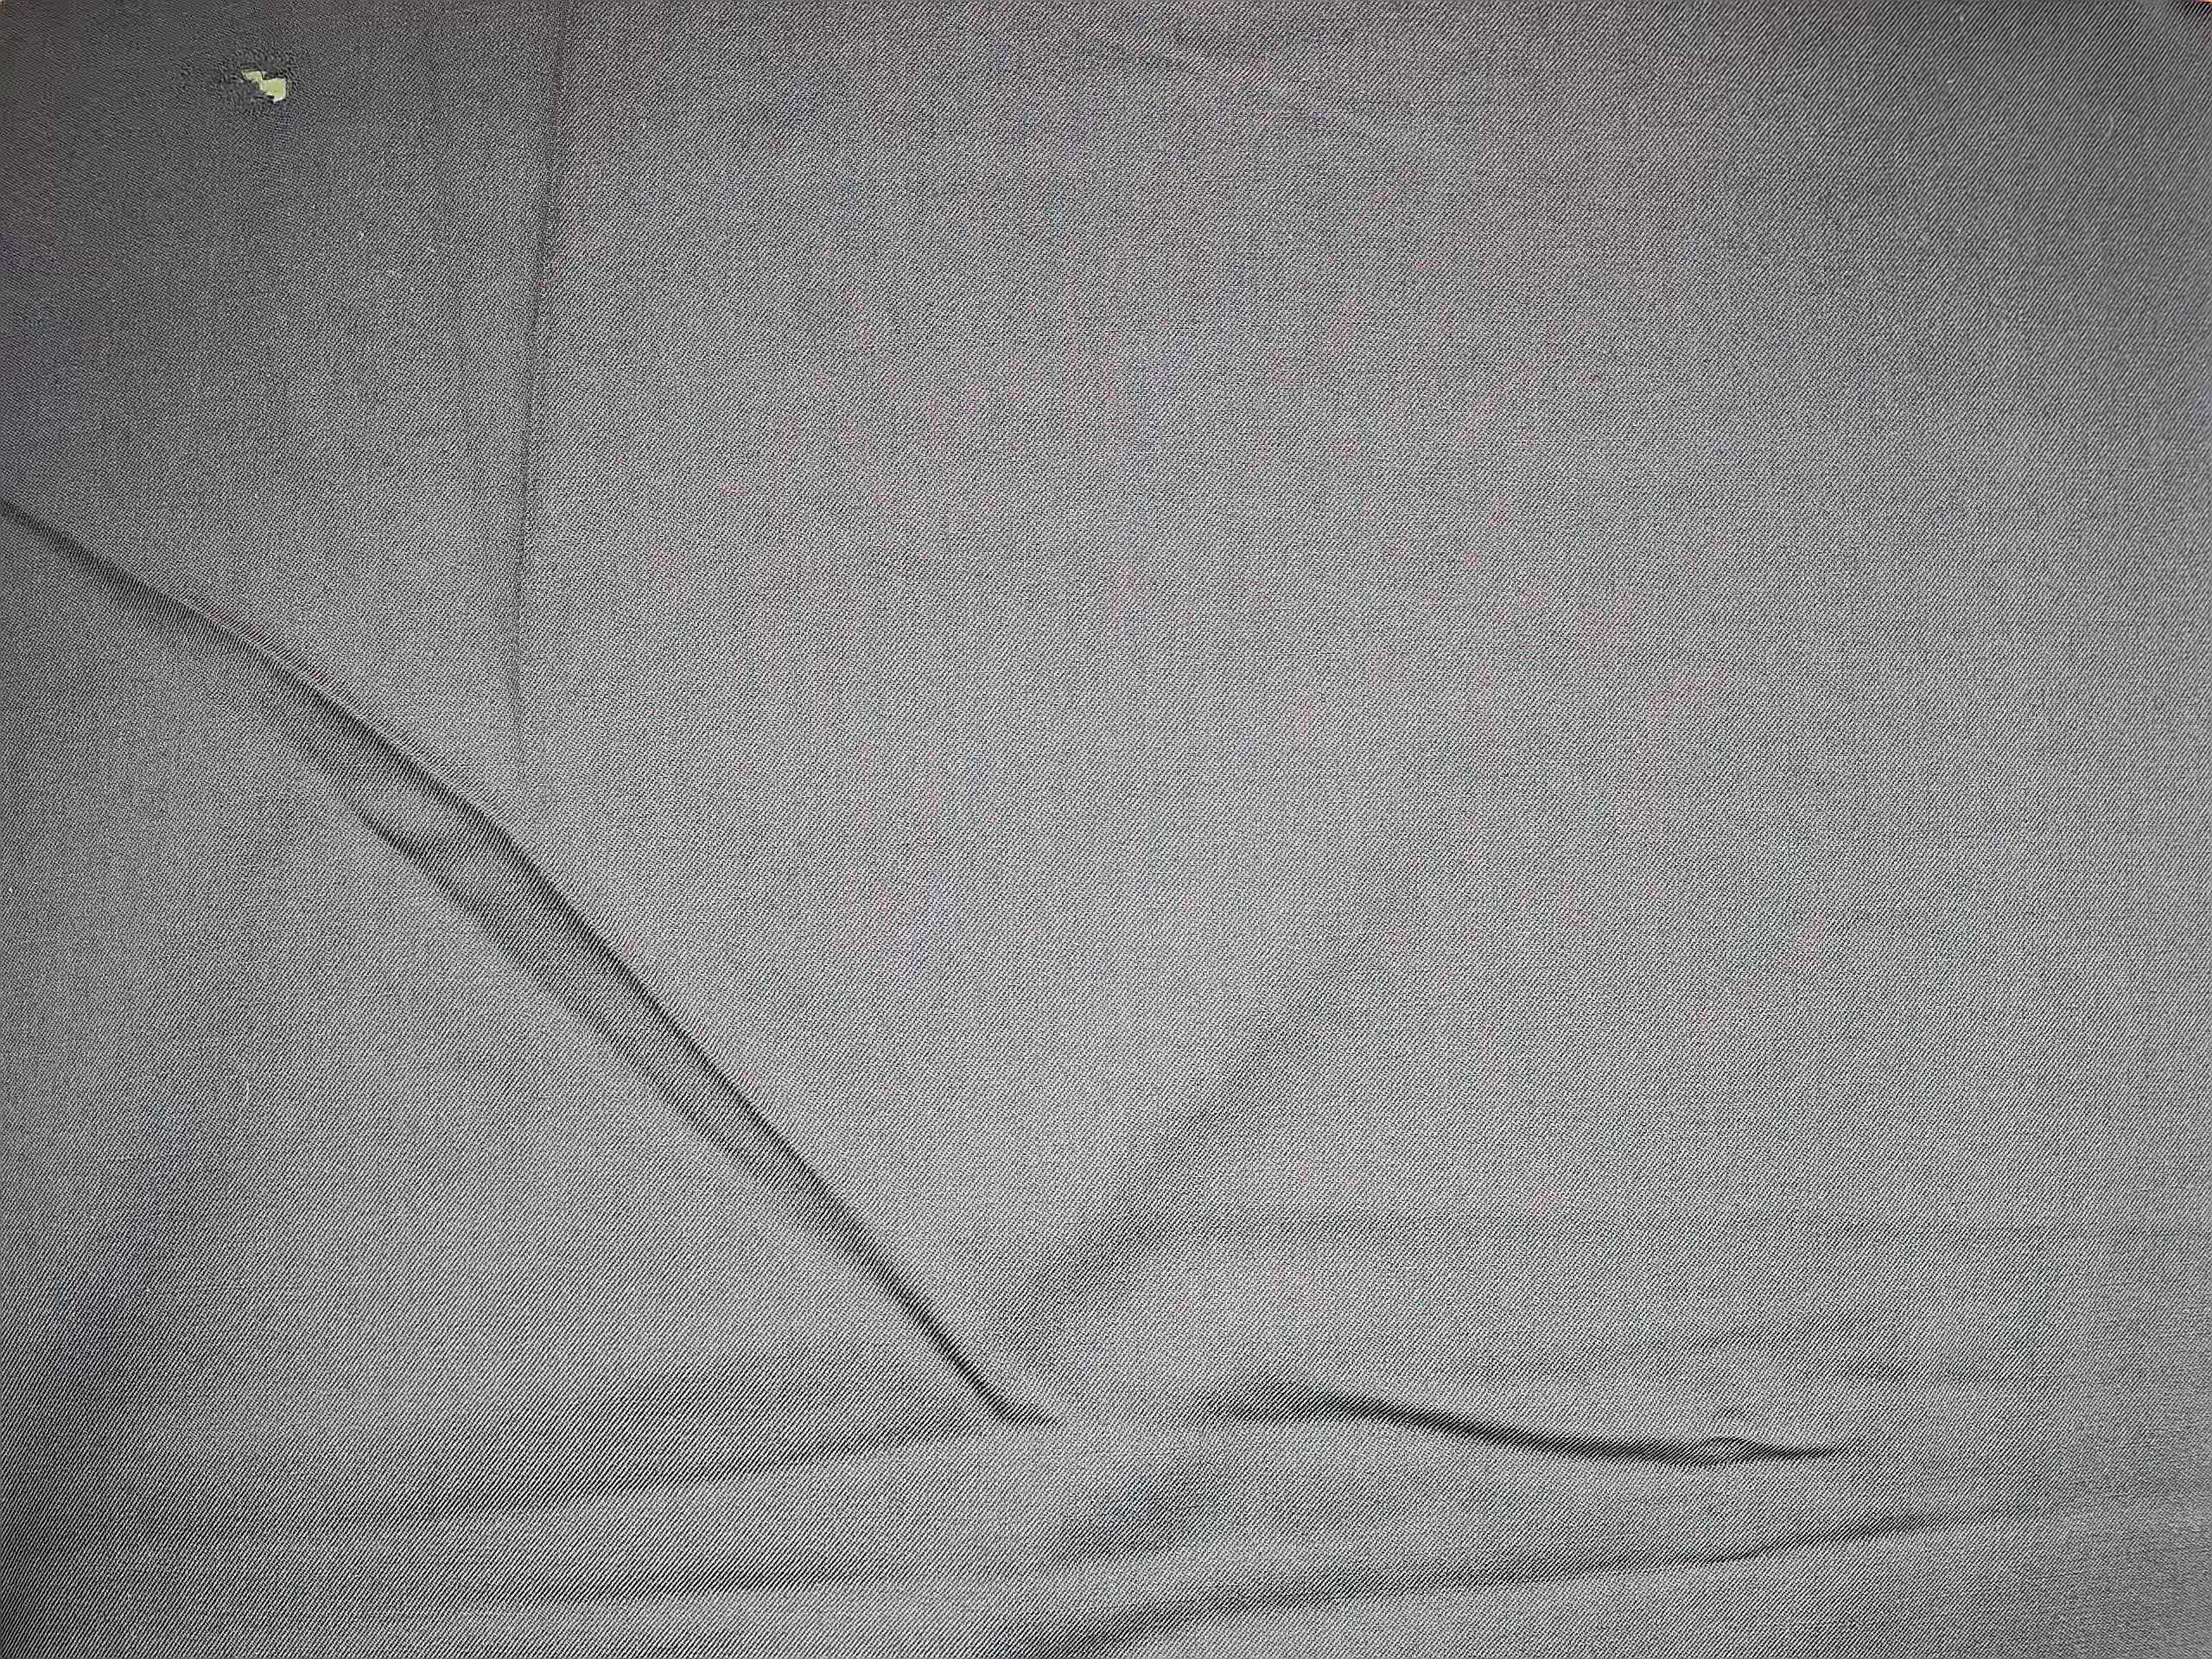rubbing-hole: (225, 38, 310, 132)
